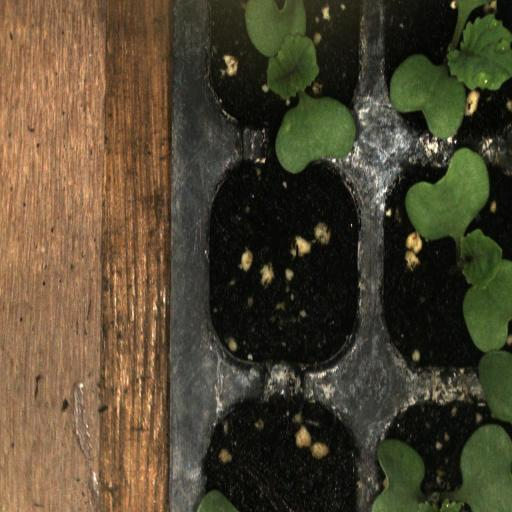Germinacao: (375, 154, 512, 381), (196, 0, 372, 150), (373, 0, 512, 152), (372, 379, 512, 512)
